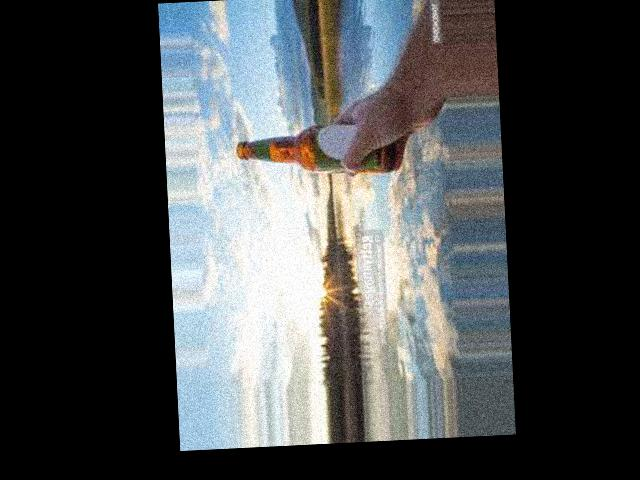beer: (234, 120, 394, 182)
